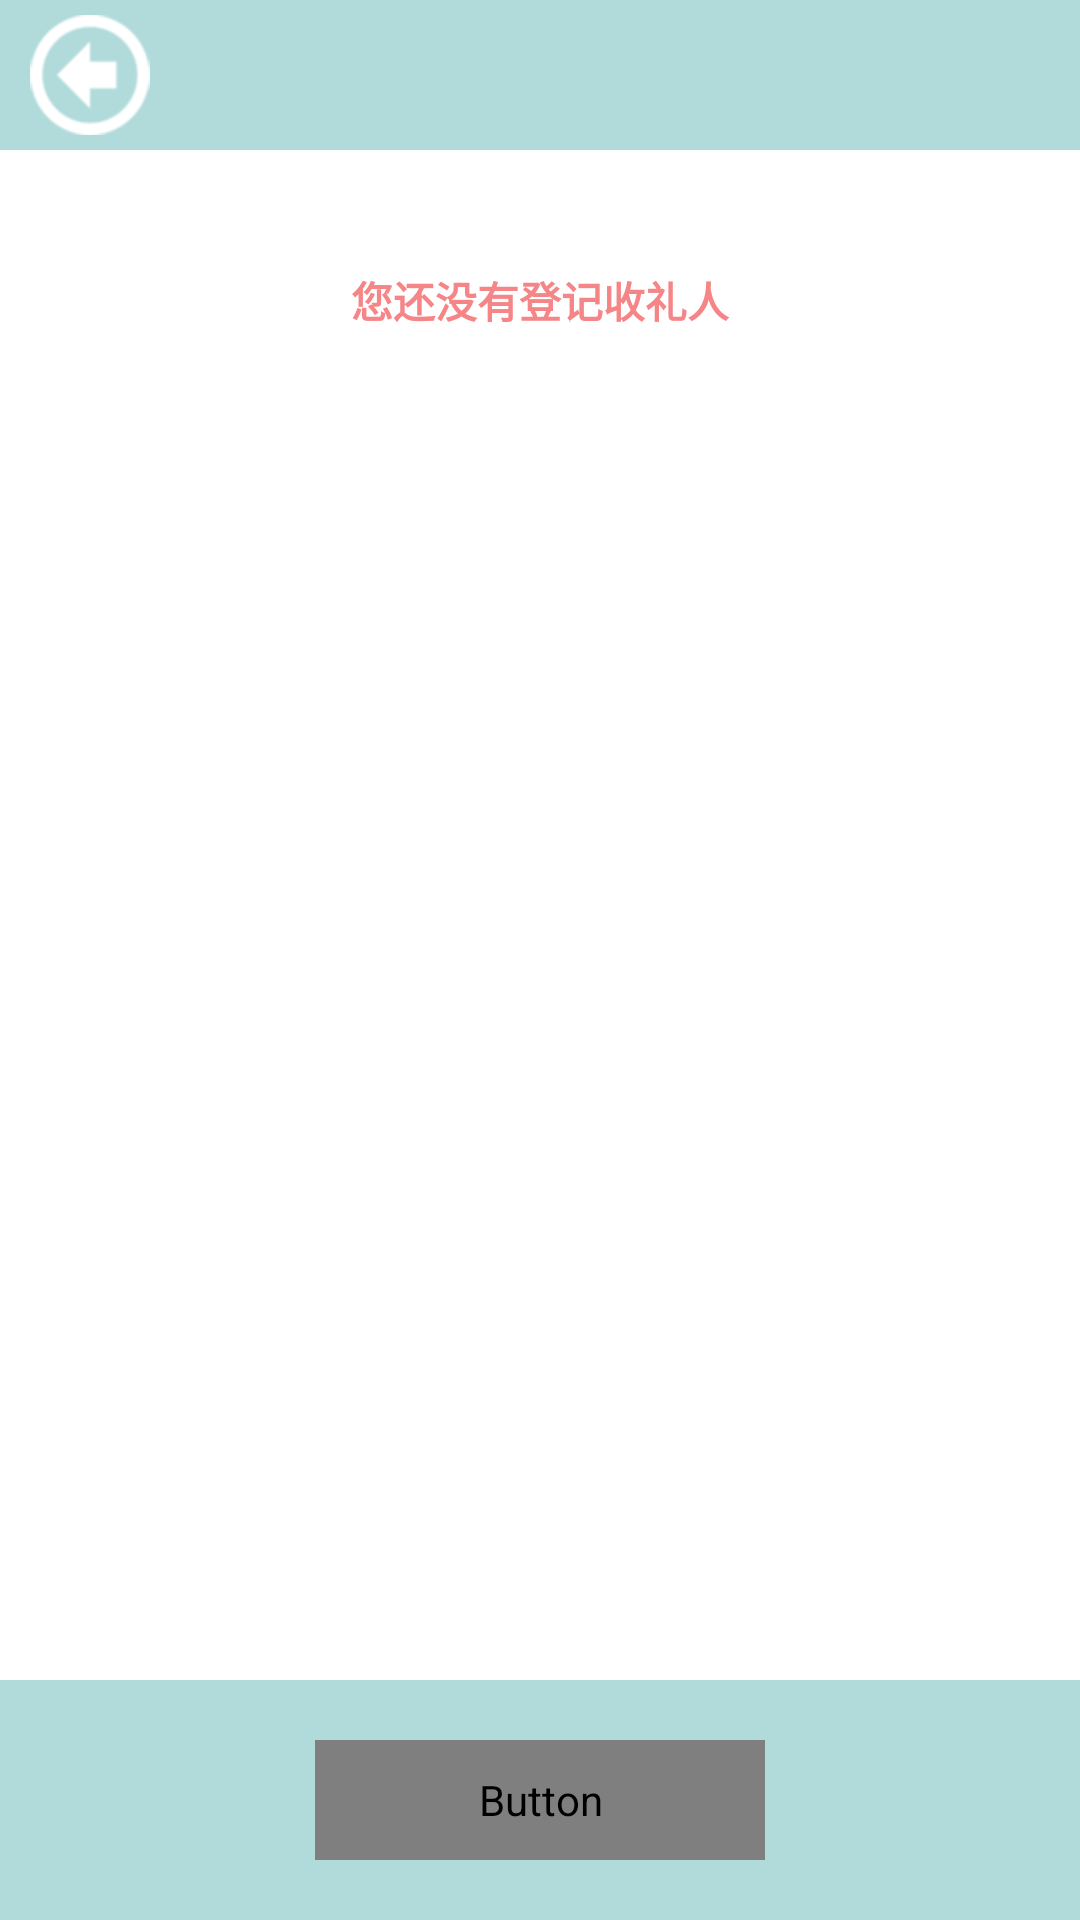

Named icons in this screenshot (1080 × 1920) and their centers, point (x, y):
back: point (90, 75)
